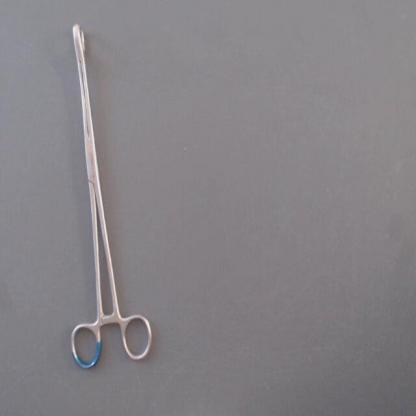Sponge Forceps: (64, 15, 160, 377)
